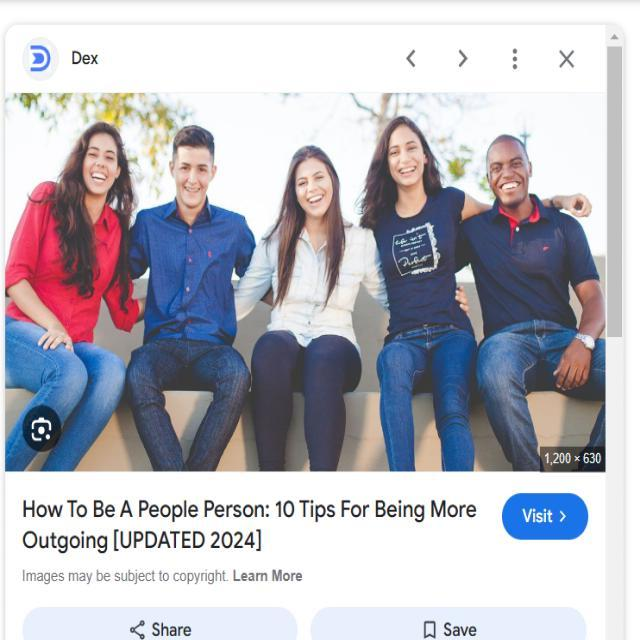face_no_mask: (383, 125, 430, 192), (482, 142, 534, 201), (169, 144, 218, 203), (84, 135, 124, 198), (294, 159, 336, 218)
